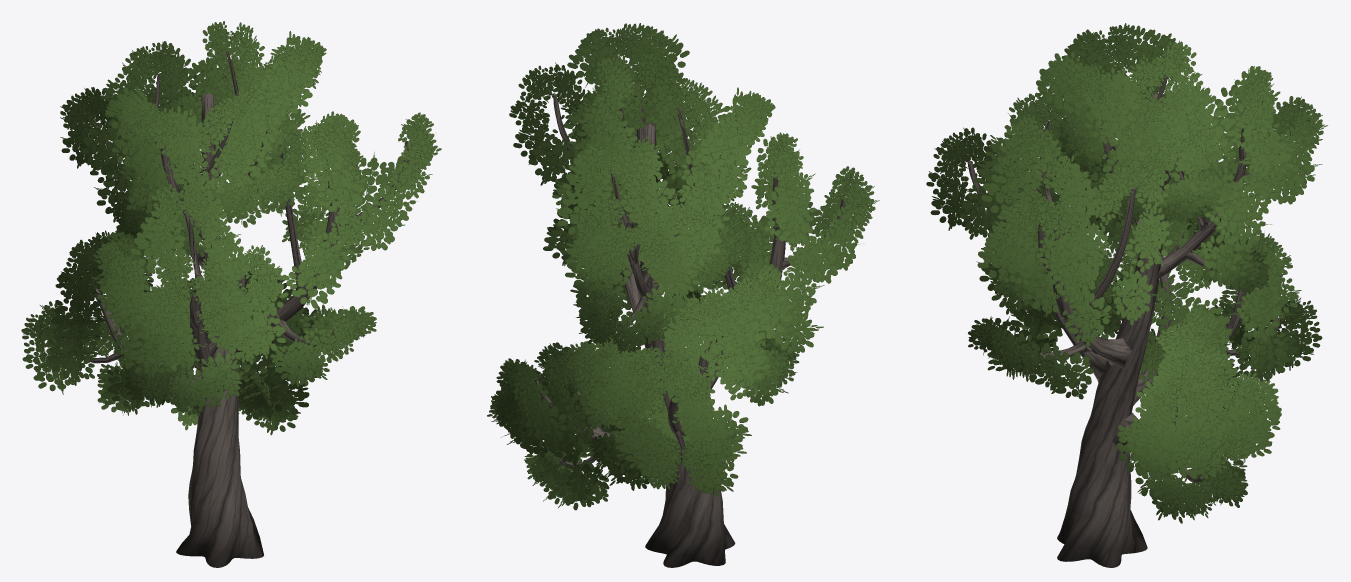
File: TwistedTree_3.gltf
The picture shows the model from 3 angles, left to right: view 1: azimuth 30°, elevation 25°; view 2: azimuth 150°, elevation 25°; view 3: azimuth 270°, elevation 25°; orthographic projection. The views are drawn at different scales.
Parts seen in each view (by area): view 1: TwistedTree_3; view 2: TwistedTree_3; view 3: TwistedTree_3.
Part boxes in pixels (x1,y1,x2,y2): TwistedTree_3: (21, 21, 441, 567); TwistedTree_3: (487, 23, 879, 567); TwistedTree_3: (926, 23, 1327, 567).
Size of the model in its own units: 11.36 by 16.07 by 11.51.
Materials: 2 (2 with a texture image).
